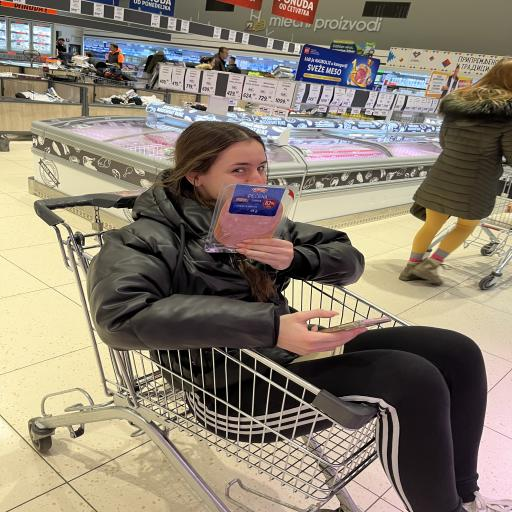masa: (203, 132, 269, 183)
